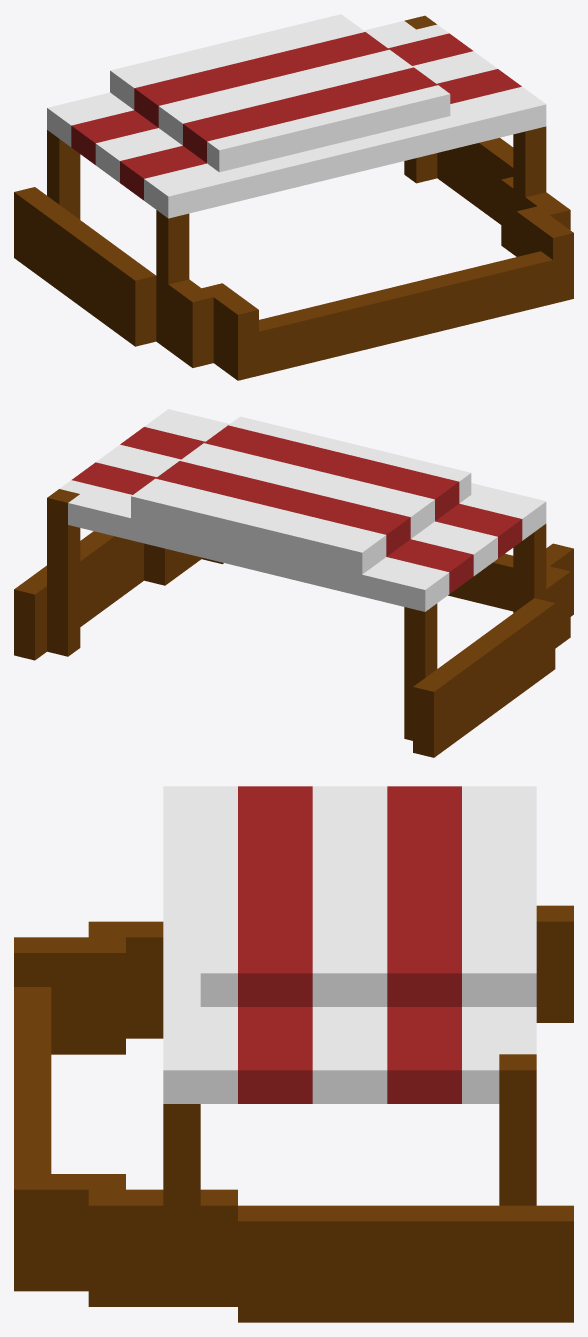
File: Shop stand.gltf
The picture shows the model from 3 angles, top to bottom: view 1: azimuth 30°, elevation 25°; view 2: azimuth 150°, elevation 25°; view 3: azimuth 270°, elevation 25°; orthographic projection. The views are drawn at different scales.
Visible parts, largest first — view 1: Layer.1; view 2: Layer.1; view 3: Layer.1.
Boxes of the visible parts, x1,y1,x2,y2 form: Layer.1: (14, 14, 573, 380); Layer.1: (14, 409, 573, 757); Layer.1: (14, 786, 573, 1322).
Bounding box in the file's own units: 20 × 8 × 15.
1 material, 1 textured.
